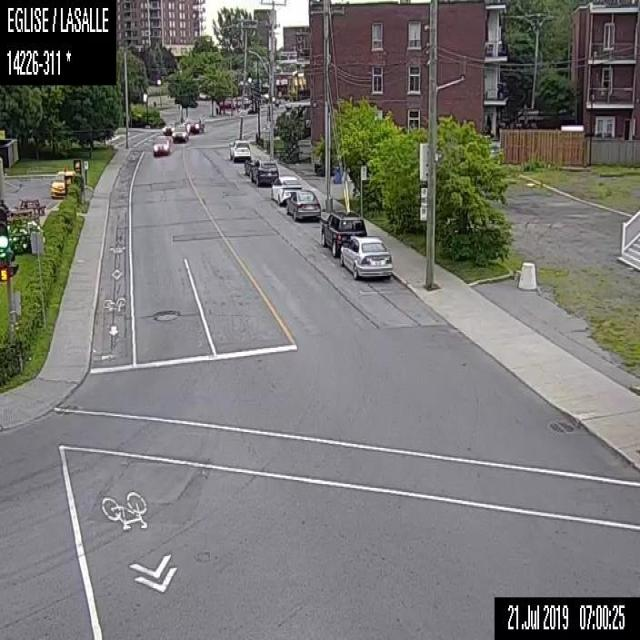vehicle: (338, 233, 394, 280), (319, 209, 366, 257), (284, 188, 322, 220), (268, 174, 302, 205), (248, 157, 279, 186), (49, 168, 75, 198), (226, 138, 252, 160), (150, 133, 172, 156), (162, 115, 185, 134), (170, 123, 188, 142), (186, 116, 204, 134)
